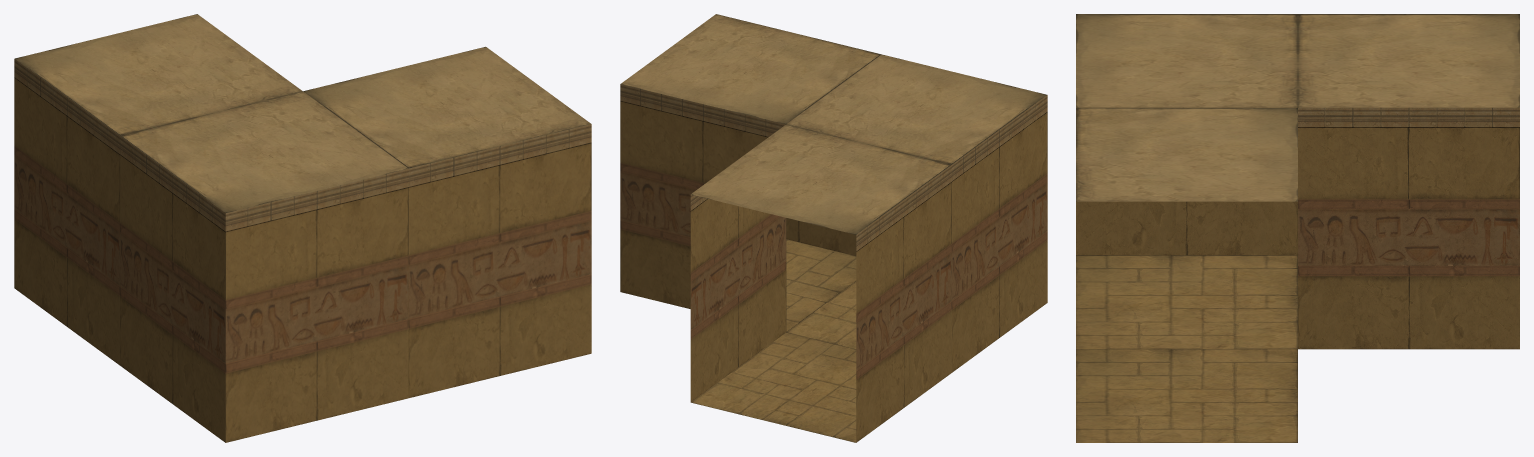
File: Tile_Corner.FBX
3 renders of one model, left to right at view 1: azimuth 30°, elevation 25°; view 2: azimuth 150°, elevation 25°; view 3: azimuth 270°, elevation 25°, orthographic. The views are drawn at different scales.
Parts seen in each view (by area): view 1: m_Cross001; view 2: m_Cross001; view 3: m_Cross001.
Part boxes in pixels (x1,y1,x2,y2): m_Cross001: (14,14,591,442); m_Cross001: (620,14,1047,442); m_Cross001: (1076,14,1519,442).
Size of the model in its own units: 200 by 200 by 120.
Materials: 1 (1 with a texture image).
